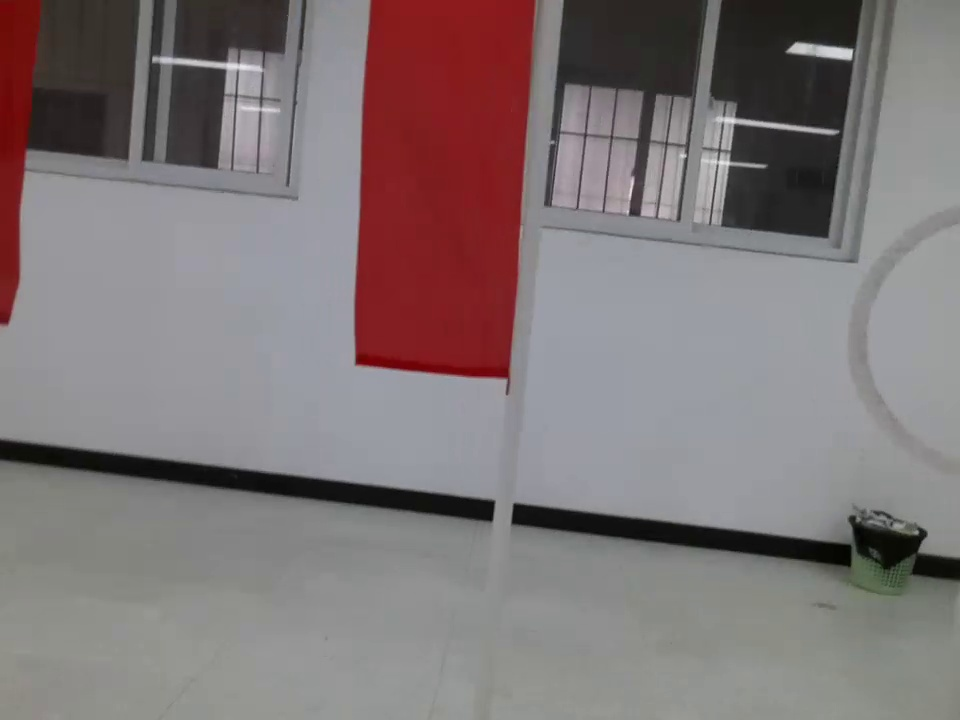quan: (351, 1, 546, 386)
